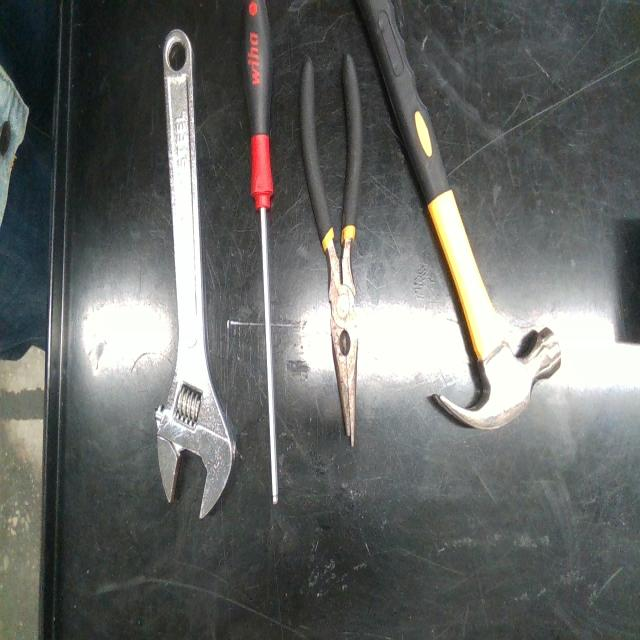Screwdriver: (242, 0, 278, 504)
